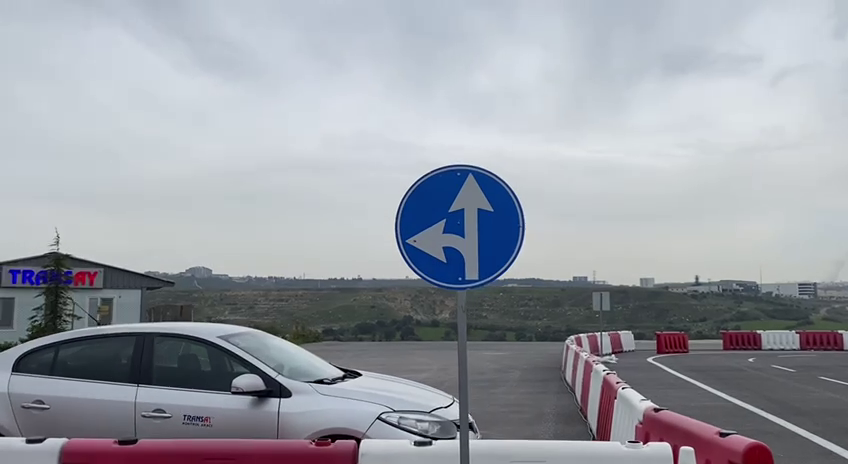forwardAndLeft: (392, 159, 527, 294)
